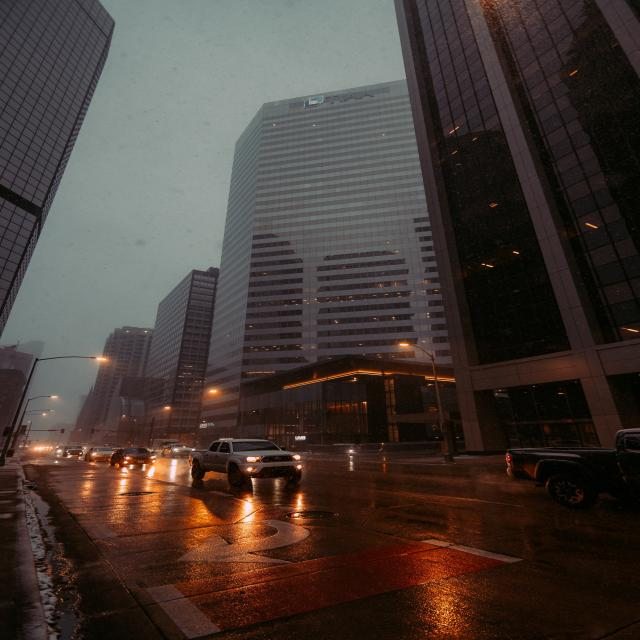Street Light: (9, 356, 109, 459), (396, 342, 454, 461), (14, 393, 59, 460), (208, 389, 245, 447)
